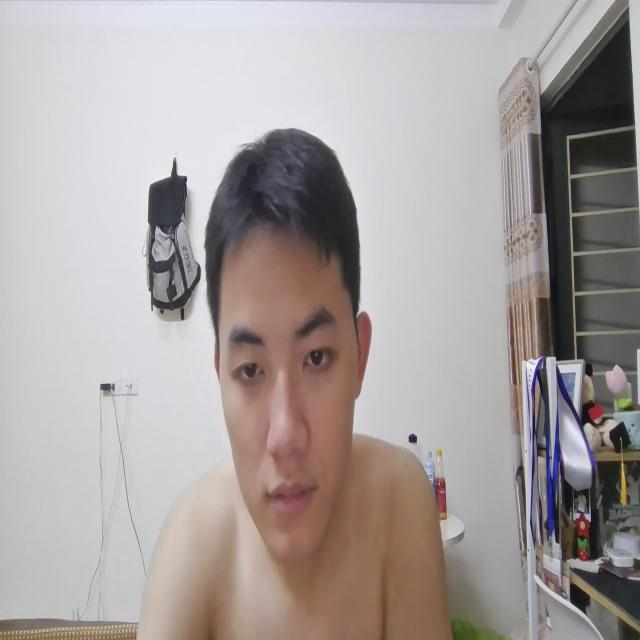student: (126, 130, 451, 640)
